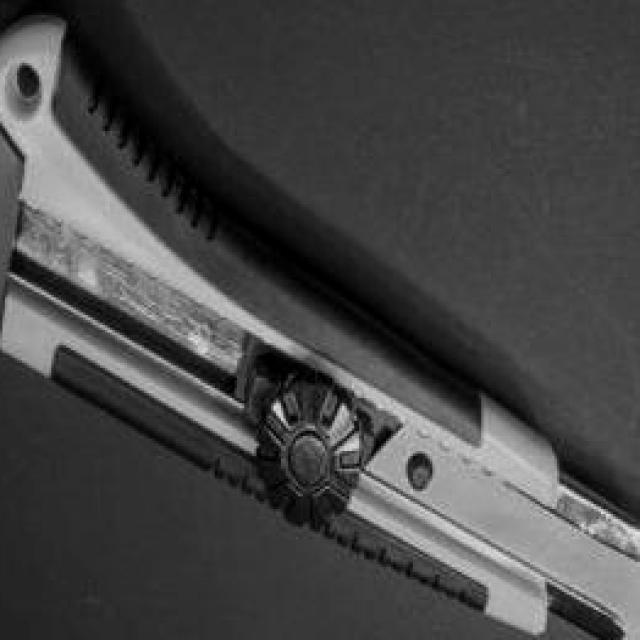estilete: (0, 16, 640, 640)
